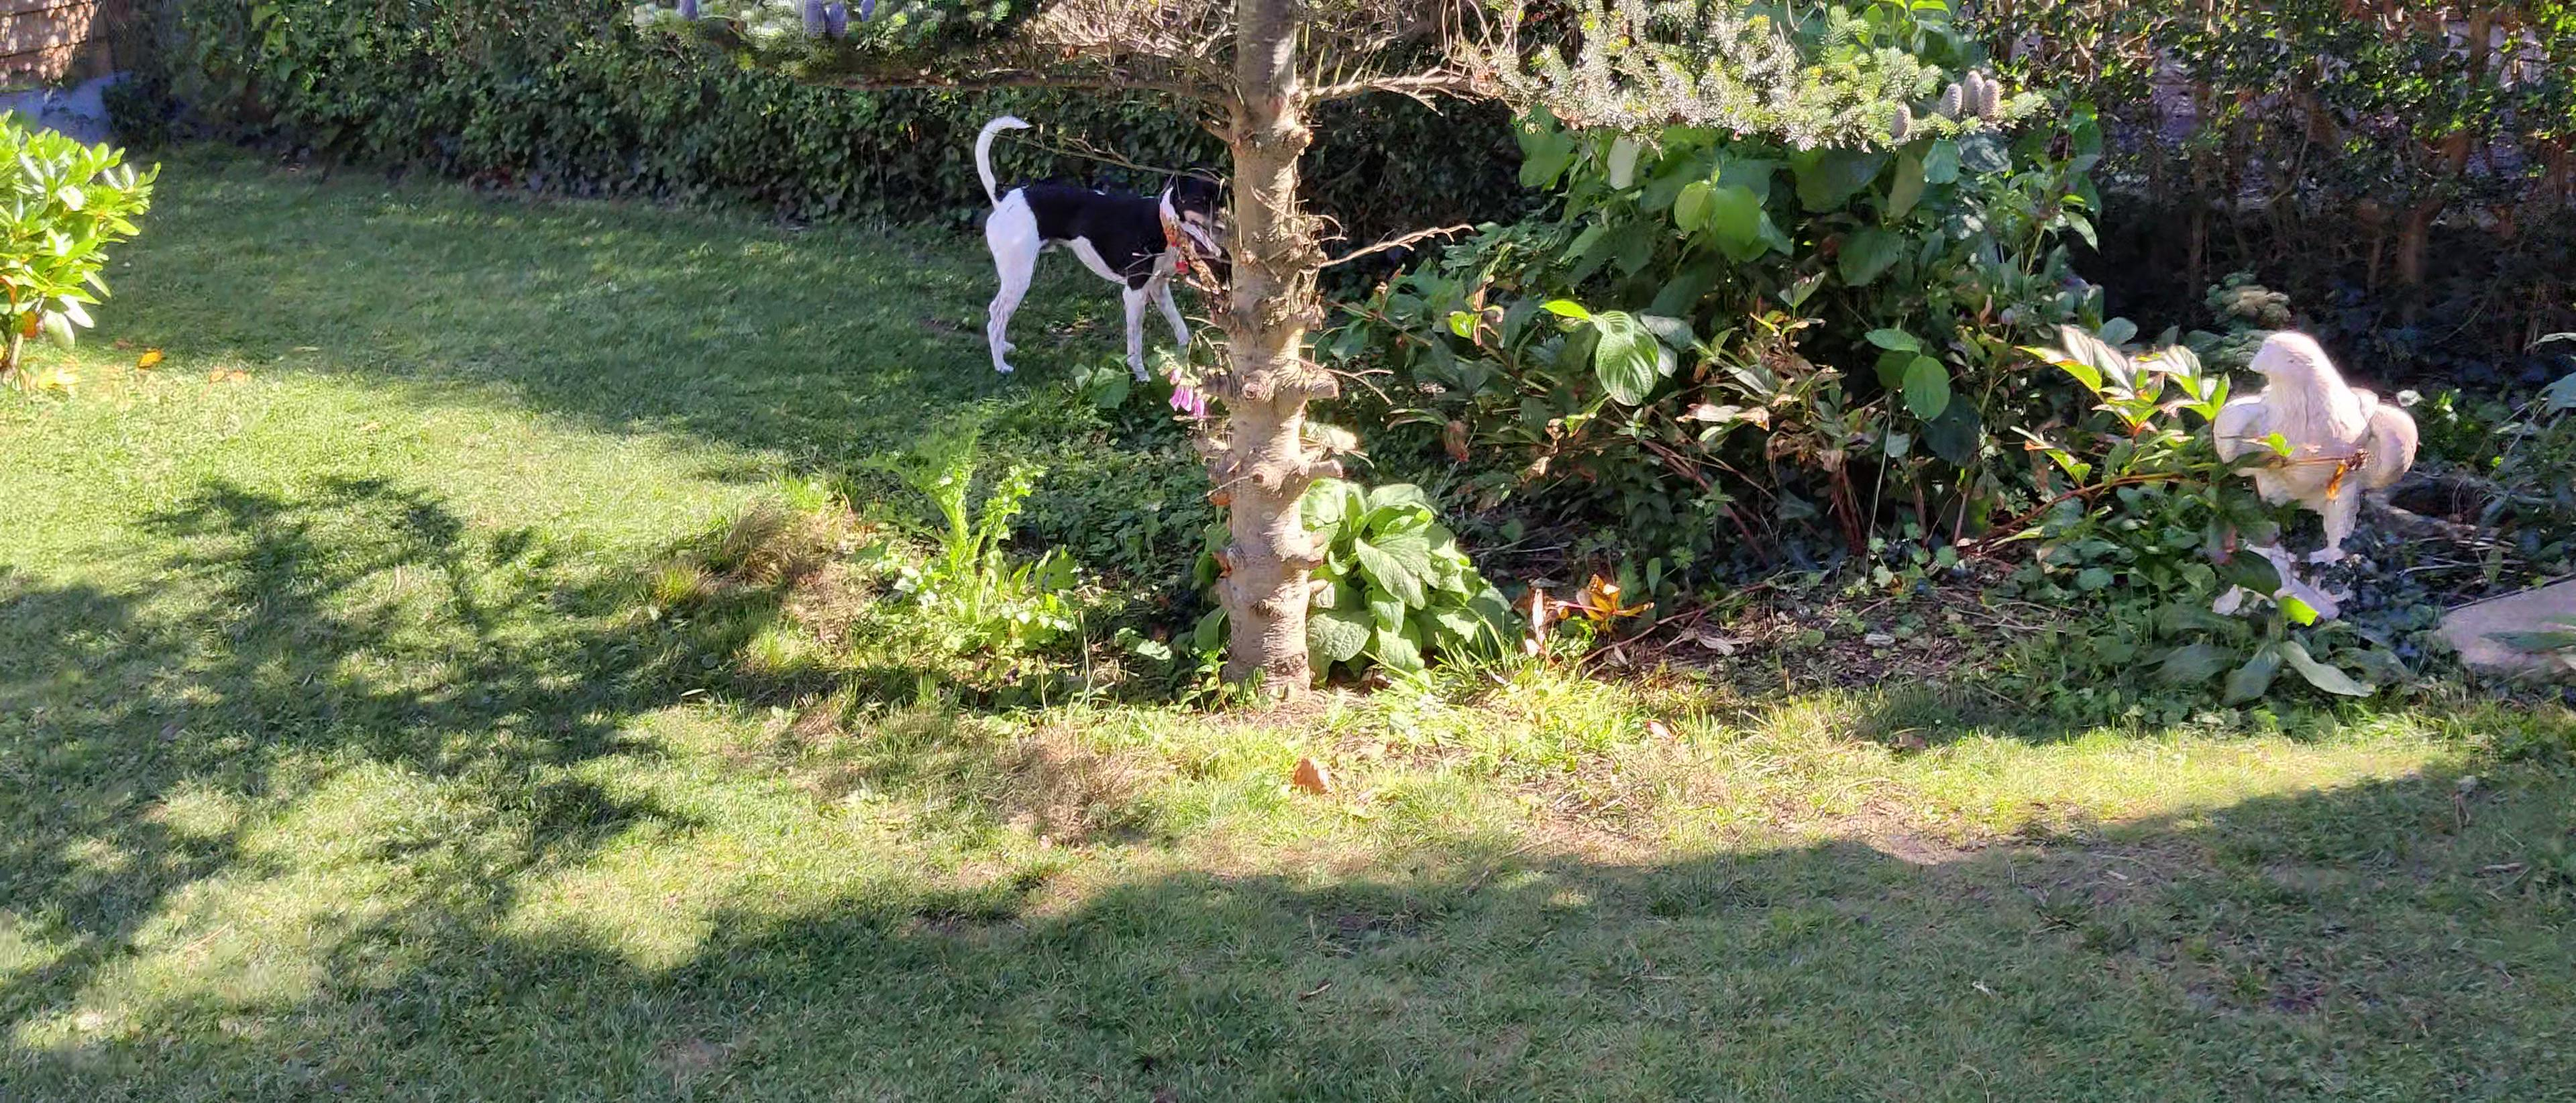Dog: (963, 110, 1232, 383)
